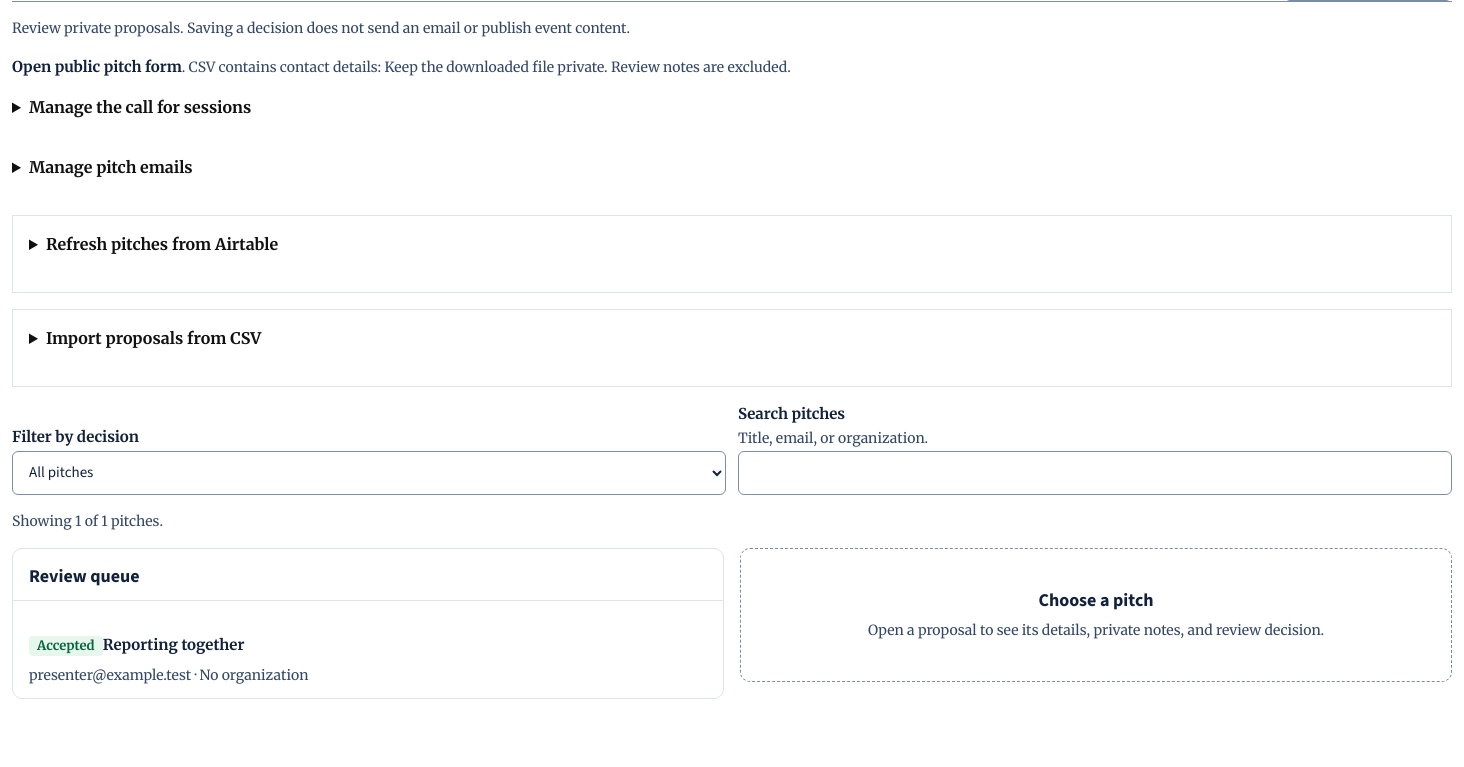
Test: AdminSessionPitches decision email › shows each delivery state in words and offers a retry only for an email that was not sent
The width and height of the screenshot is (1464, 767).
Click the button "Reporting together": (174,645) [103,633,244,657]
(page scrolled)
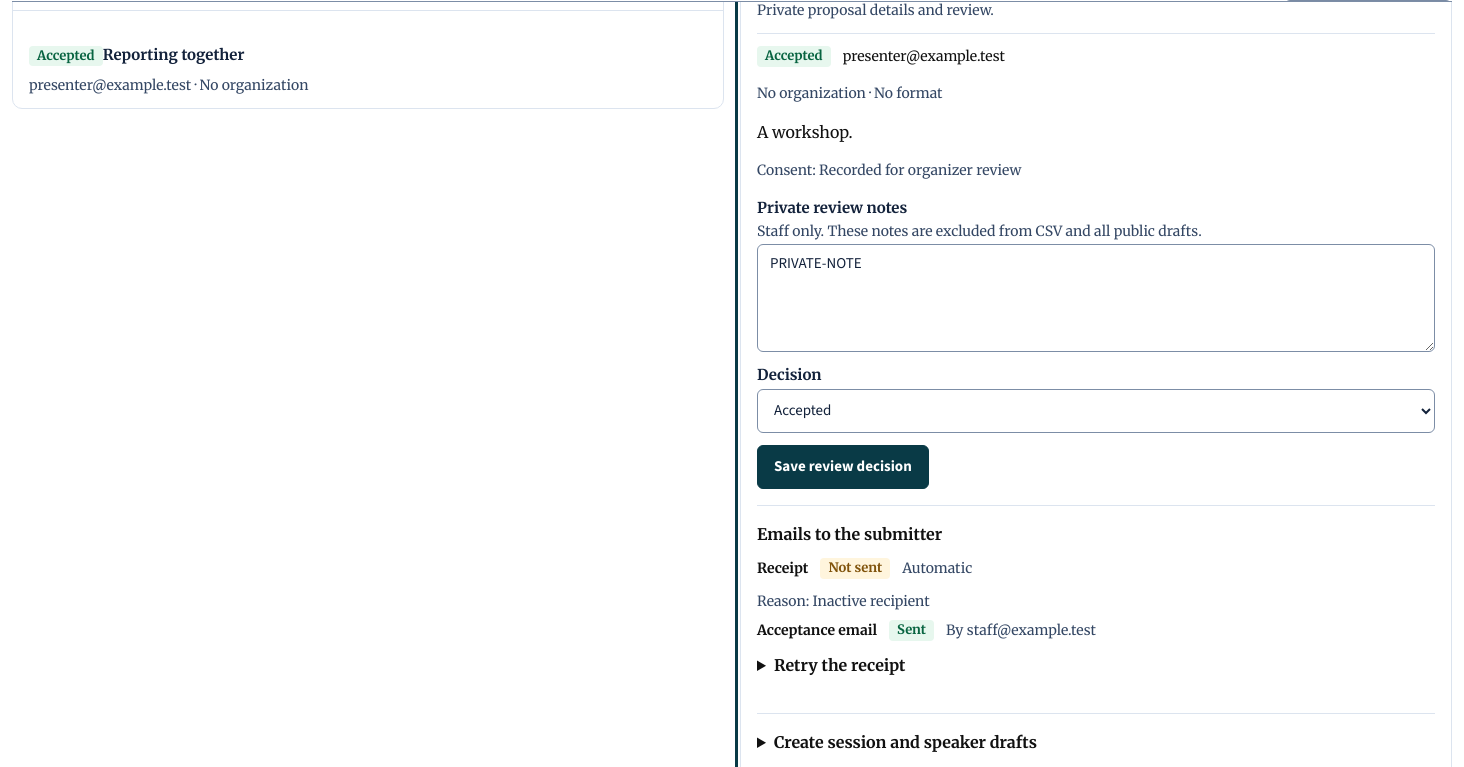
Result: the text "Not sent" is shown at [820,558,890,579]
Result: the text "Reason: Inactive recipient" is shown at [757,592,930,610]
Result: the text "Sent" is shown at [889,620,934,641]
